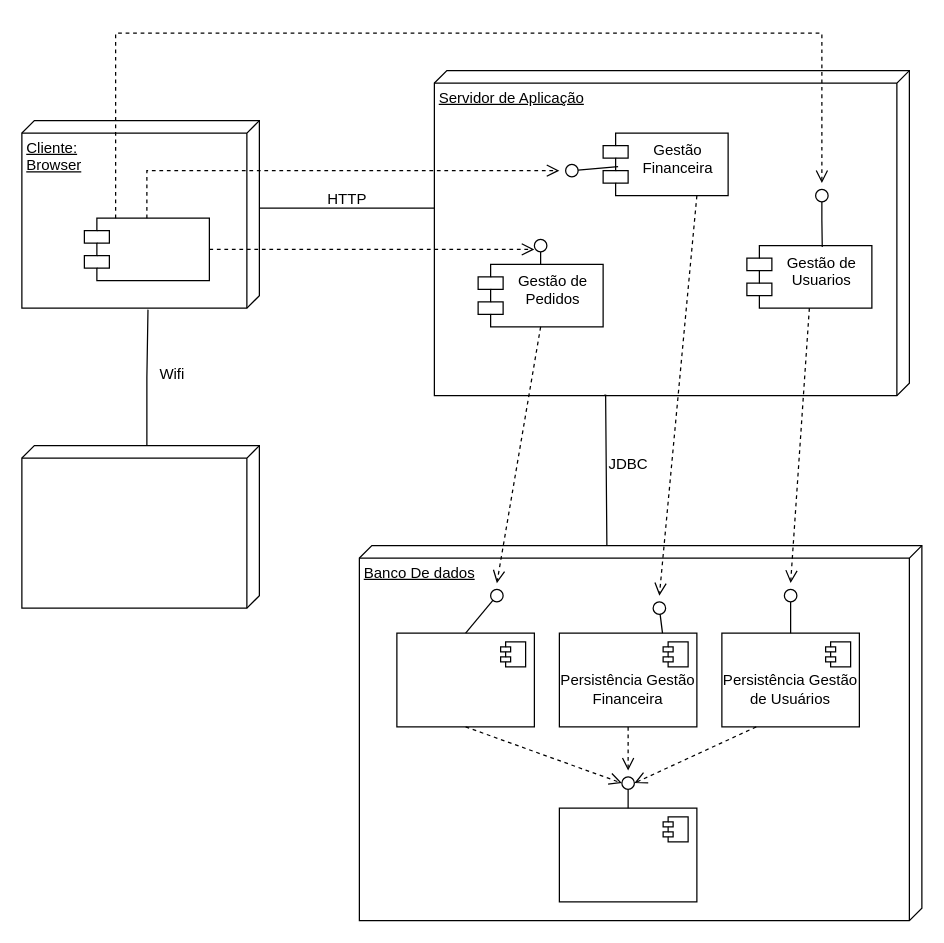
Some shapes in this 944 by 943 pixel diagram are drawn without their labels. Here are the shapes that lost their labels. From the top down, the centre of each, then its label:
the point at 146,249: Interface de usuario
the point at 140,526: Computador
the point at 465,679: Persistência Gestão de Pedidos
the point at 627,854: SGBD
